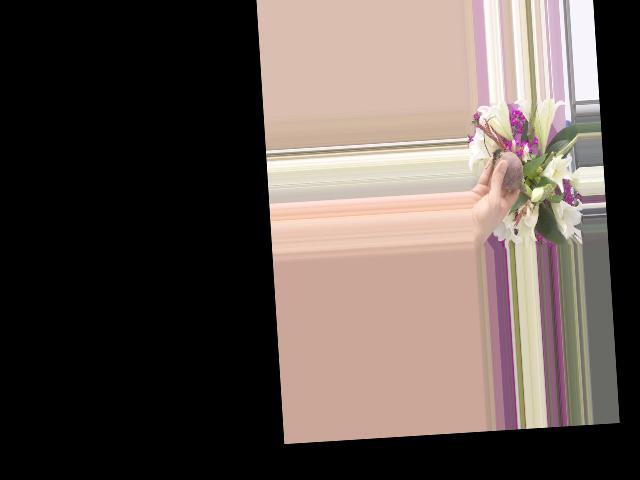beet: (491, 146, 531, 201)
